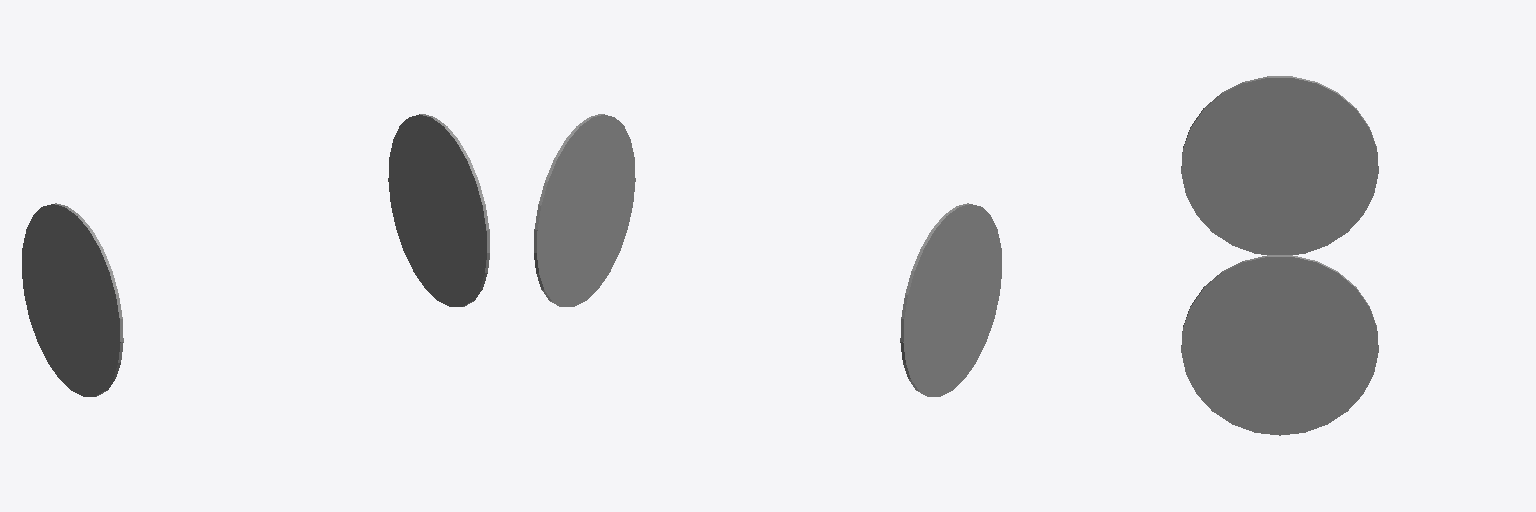
The model's file is ruote_posteriori.obj.
3 views of the same model, side by side, from view 1: azimuth 30°, elevation 25°; view 2: azimuth 150°, elevation 25°; view 3: azimuth 270°, elevation 25° (orthographic).
Parts seen in each view (by area): view 1: Geometry; view 2: Geometry; view 3: Geometry.
Boxes of the visible parts, <box> form: Geometry: <box>22,114,489,396</box>; Geometry: <box>534,114,1001,396</box>; Geometry: <box>1181,76,1378,435</box>.
Bounding box in the file's own units: 1.08 × 0.498 × 0.499.